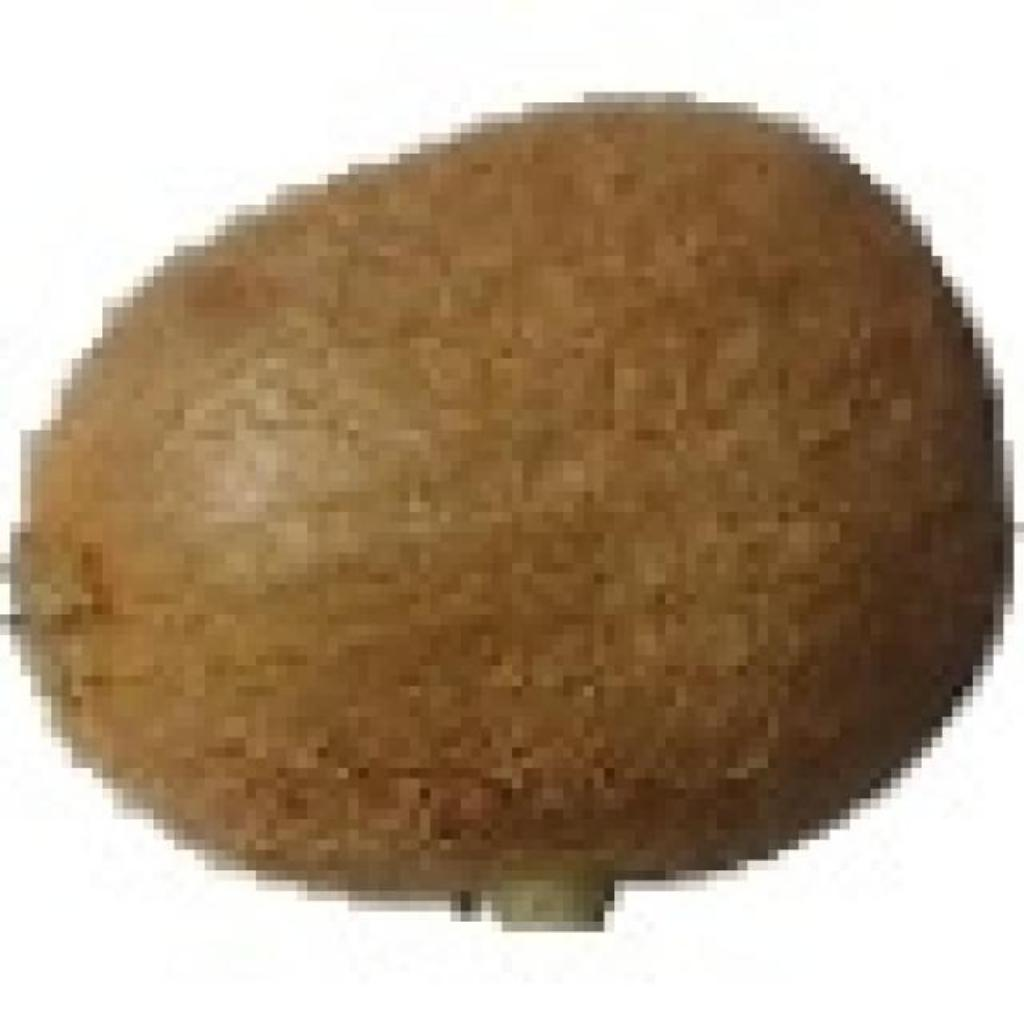kiwi: (10, 82, 993, 901)
